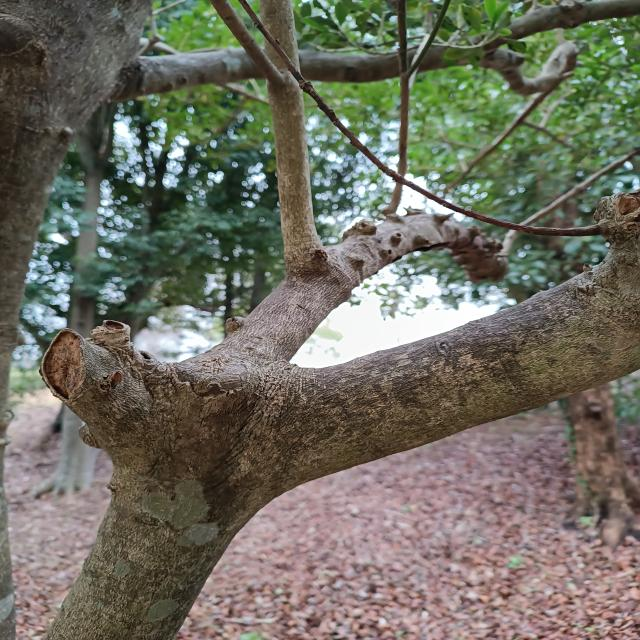Branch: (267, 195, 640, 499), (203, 212, 510, 372)
Twig: (238, 0, 603, 236), (117, 38, 578, 97), (261, 1, 324, 268), (474, 92, 547, 162)
